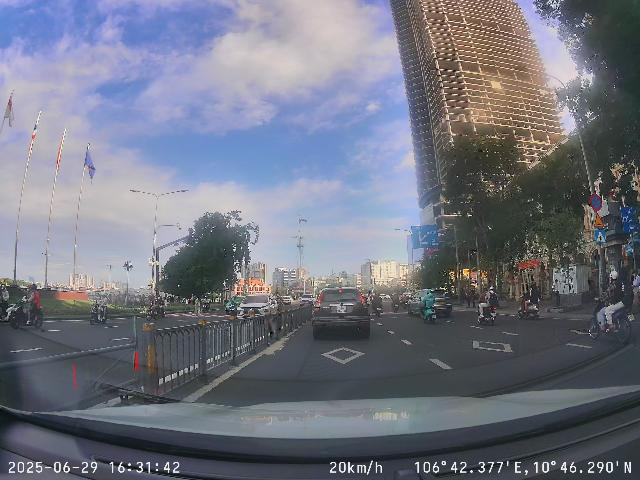130-cam-dung-va-do-xe: (590, 193, 602, 211)
221-duong-go-ghe: (594, 213, 604, 227)
423a-duong-nguoi-di-bo-sang-ngang-1: (595, 229, 606, 244)
